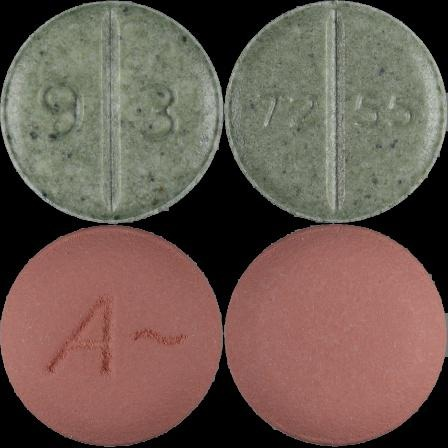54868-5457: (0, 0, 224, 224)
